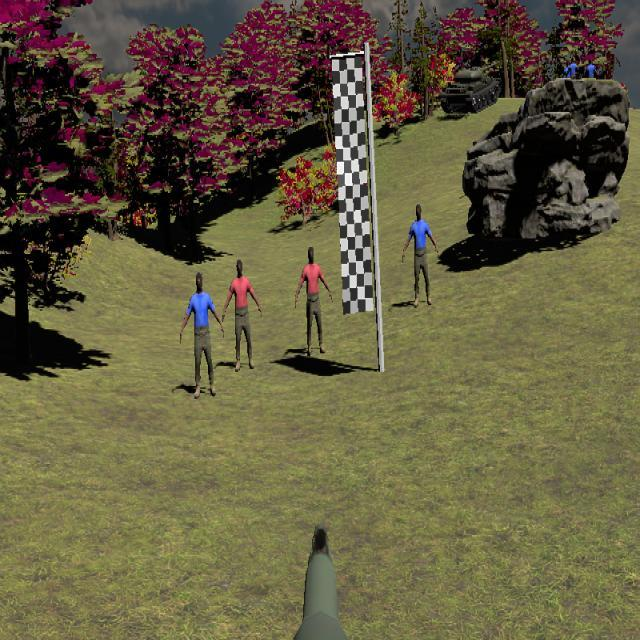Human: (179, 271, 224, 398), (222, 259, 262, 370), (295, 246, 333, 354), (401, 203, 438, 306)
Tank: (439, 64, 500, 114)
